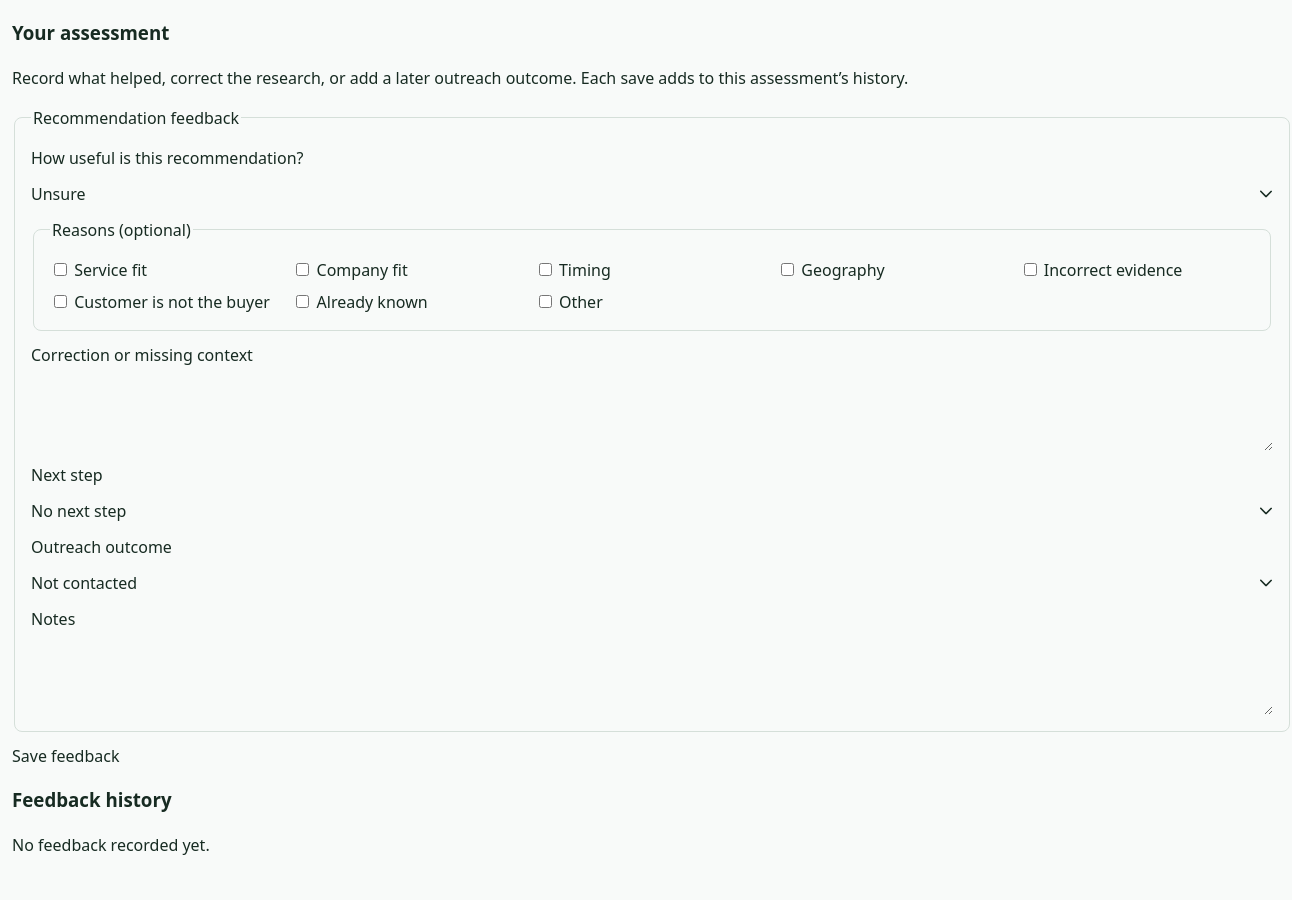
Test: rejects feedback receipts from a different batch and preserves the draft
Type "Correction for this batch" into the text box labelled "Correction or missing context".
click(652, 414); type("Correction for this batch")  # box [31, 378, 1273, 450]
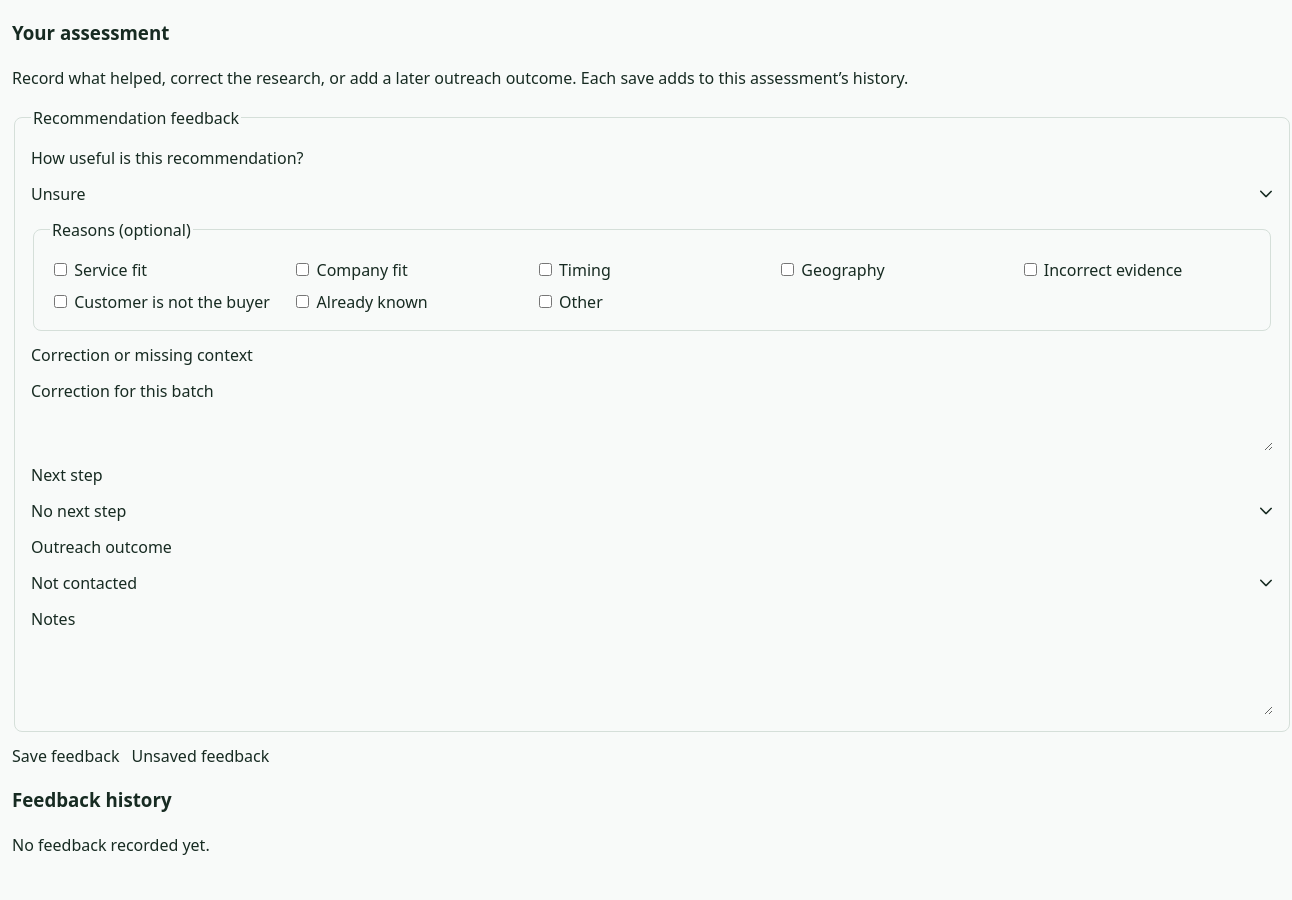
Submit the form
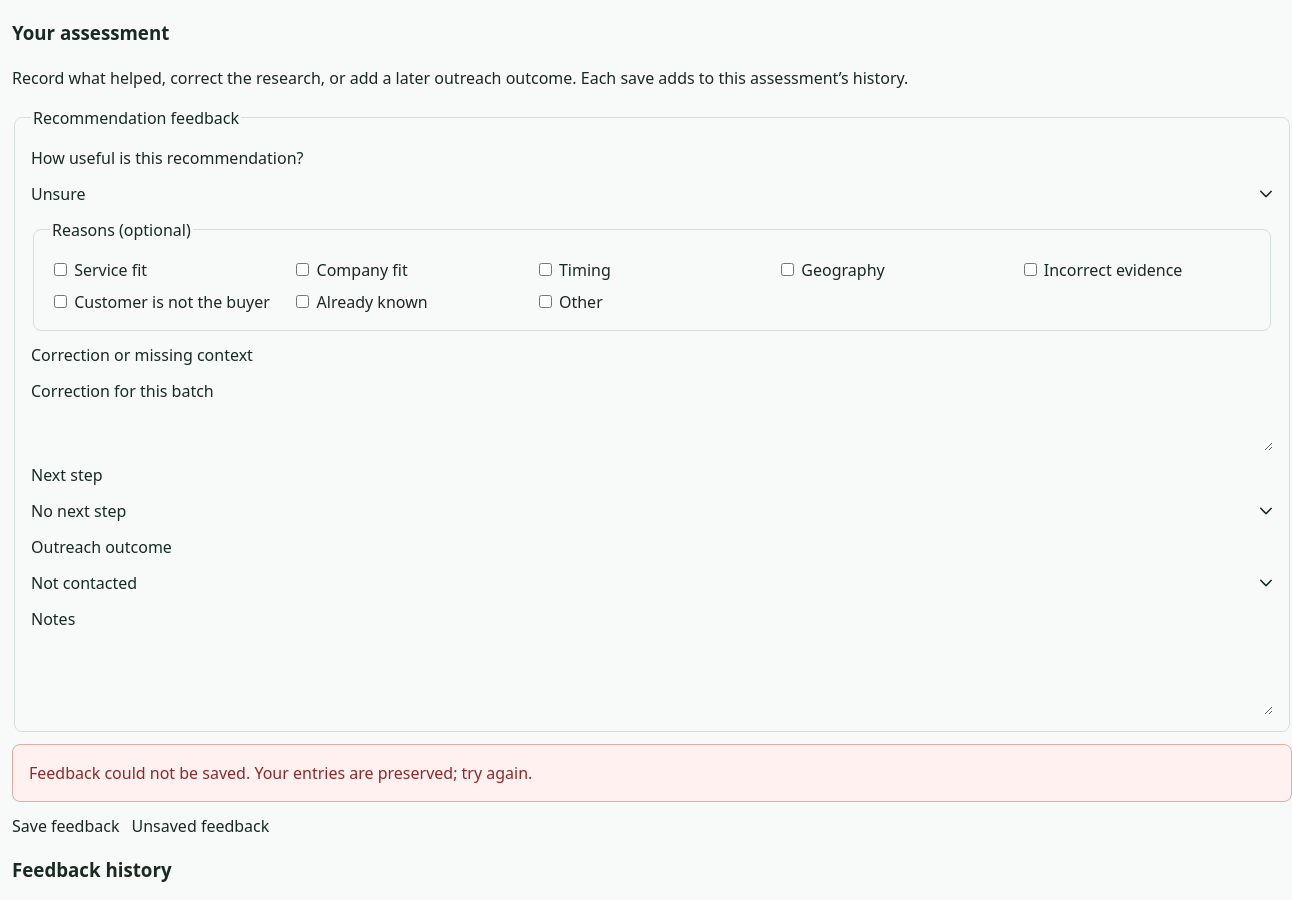
expect the text "Feedback could not be saved" is shown: met, box [29, 762, 532, 784]
